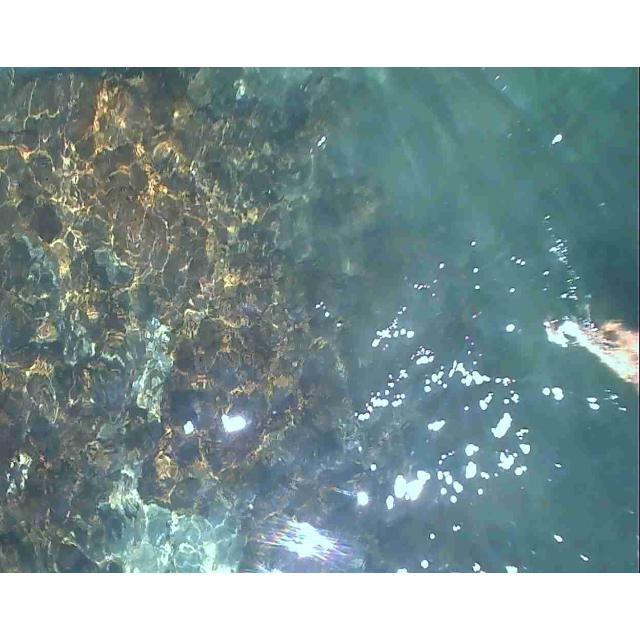human: (548, 291, 635, 424)
